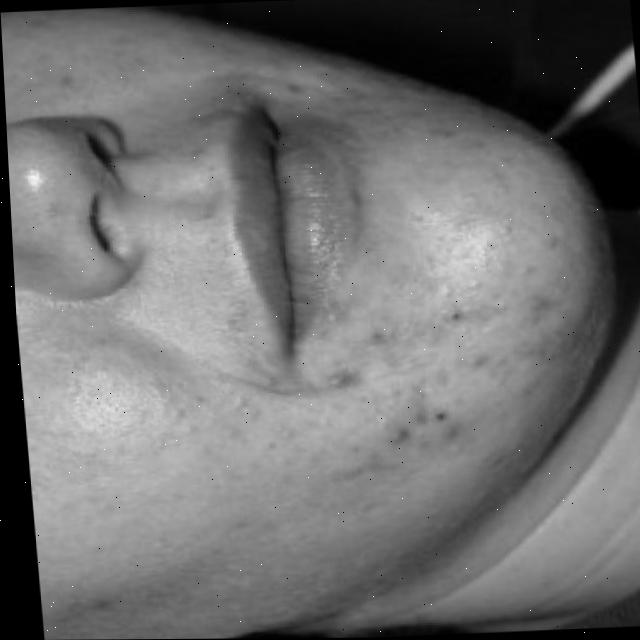Acne: (291, 106, 596, 500)
